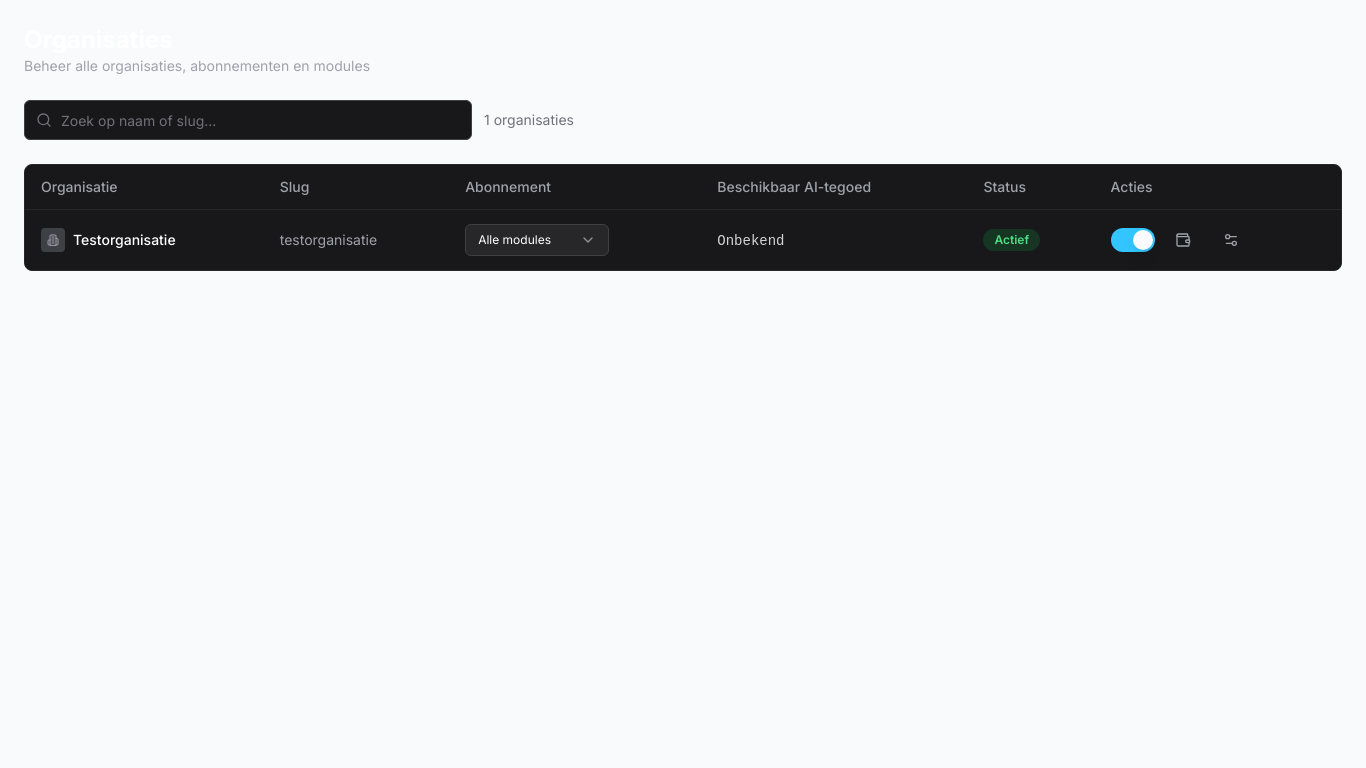
SaaS administrator hours-module opt-in › sends the dedicated setter and waits for persisted confirmation before showing enabled
Later steps or results of the test are not shown.
Click the button titled "Modules beheren": (1230, 240) [1210, 222, 1250, 258]
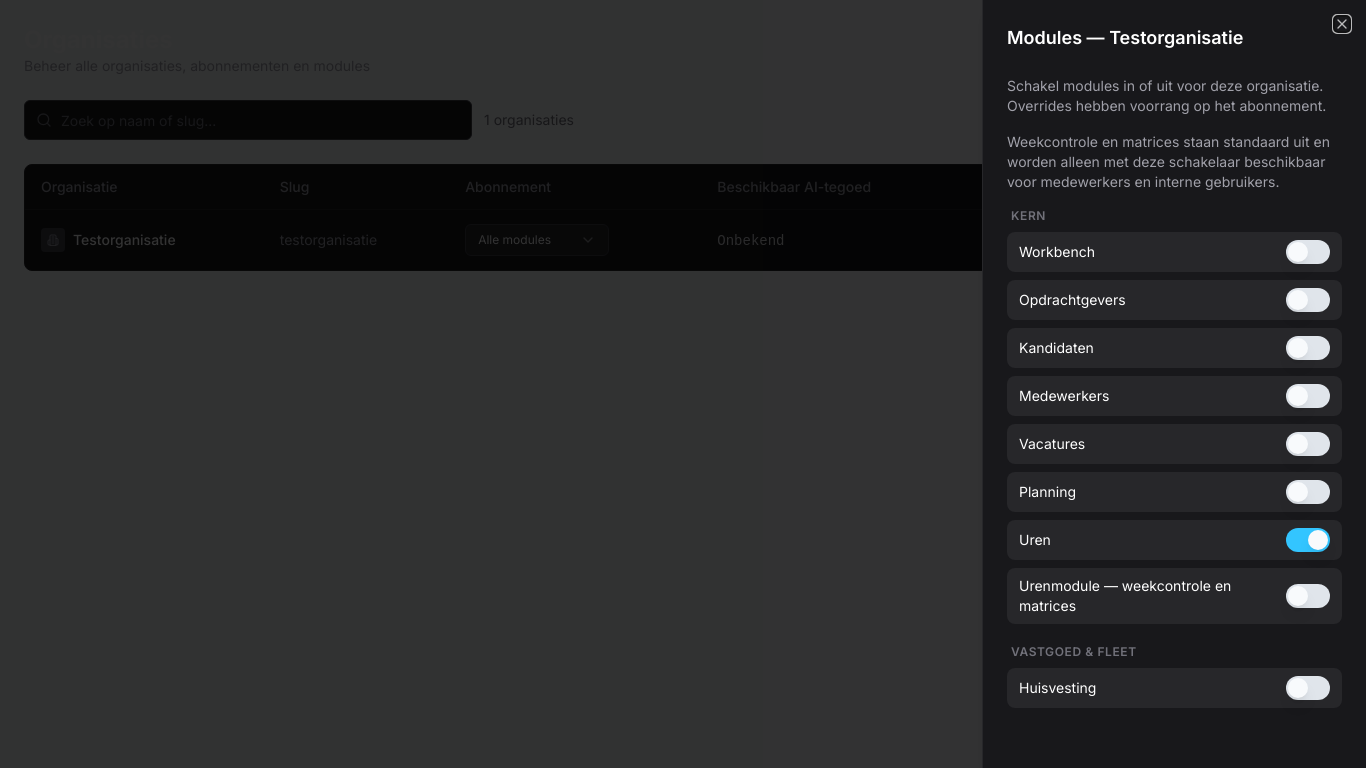
Expected: the switch named "Urenmodule — weekcontrole en matrices" is enabled
Click the switch named "Urenmodule — weekcontrole en matrices": (1308, 596) [1286, 584, 1330, 608]
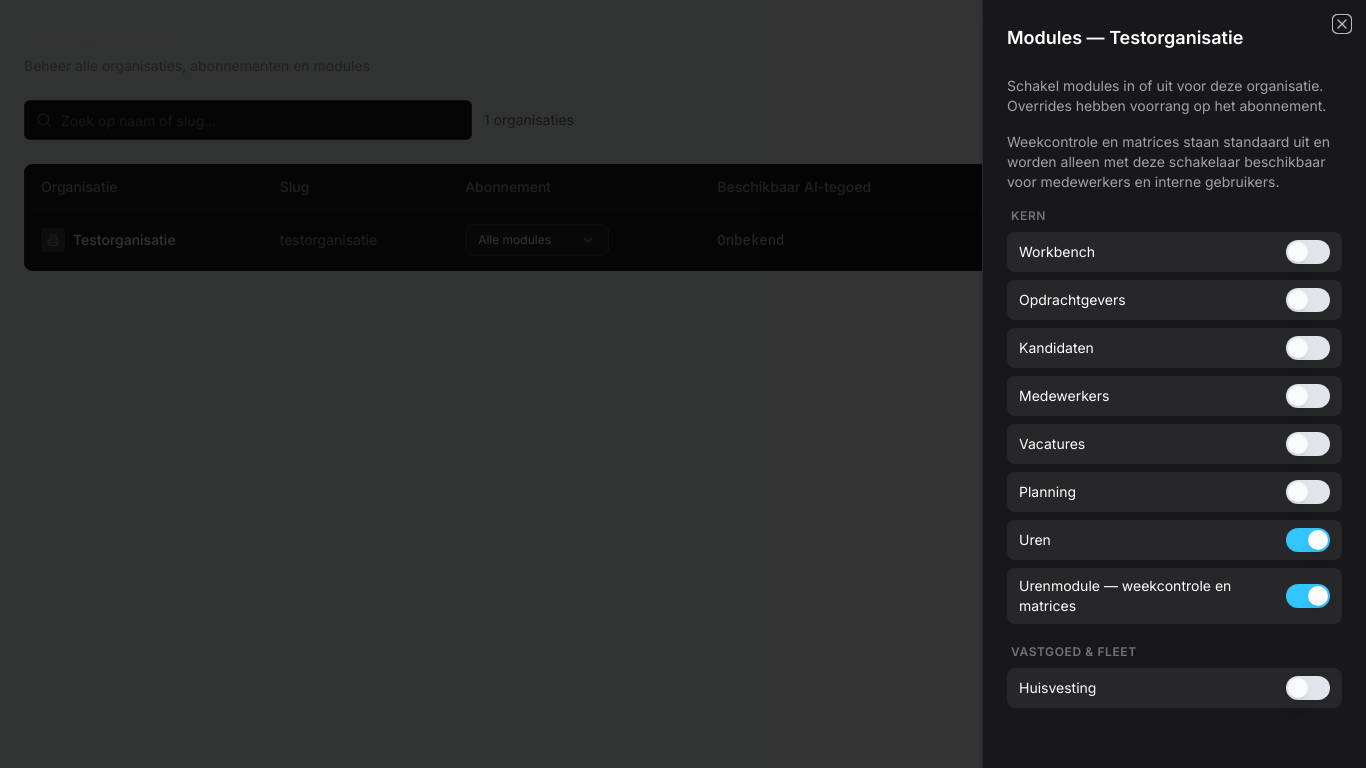
Expected: the switch named "Urenmodule — weekcontrole en matrices" is checked, [1286, 584, 1330, 608]
